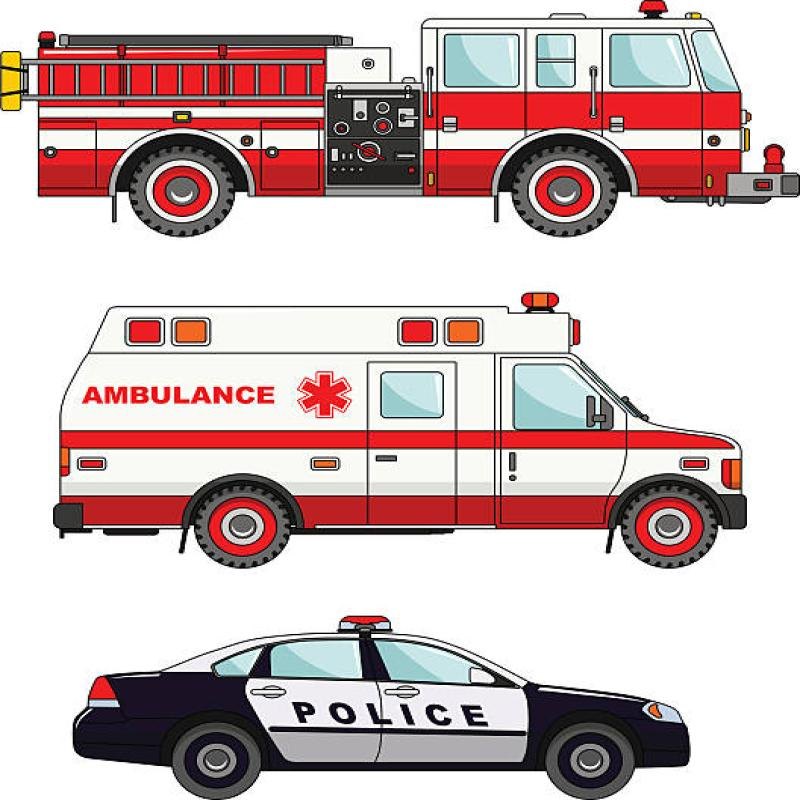car: (64, 290, 766, 564), (80, 614, 720, 800)
